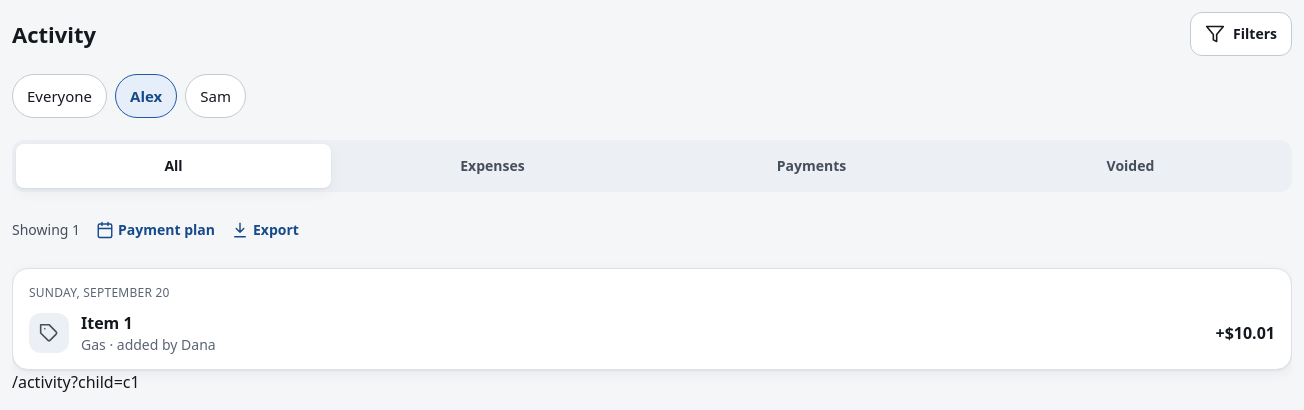
Test: ActivityPage as a Parent › preselects ?child= and keeps the address in step with the chips
The width and height of the screenshot is (1304, 410).
Expected: the text "Item 1" is shown, [81,312,133,334]
Expected: the text "Gas · added by Dana" is shown, [81,335,216,354]
Click the radio button labelled "Sam" at (216, 96), box [185,74,246,118]
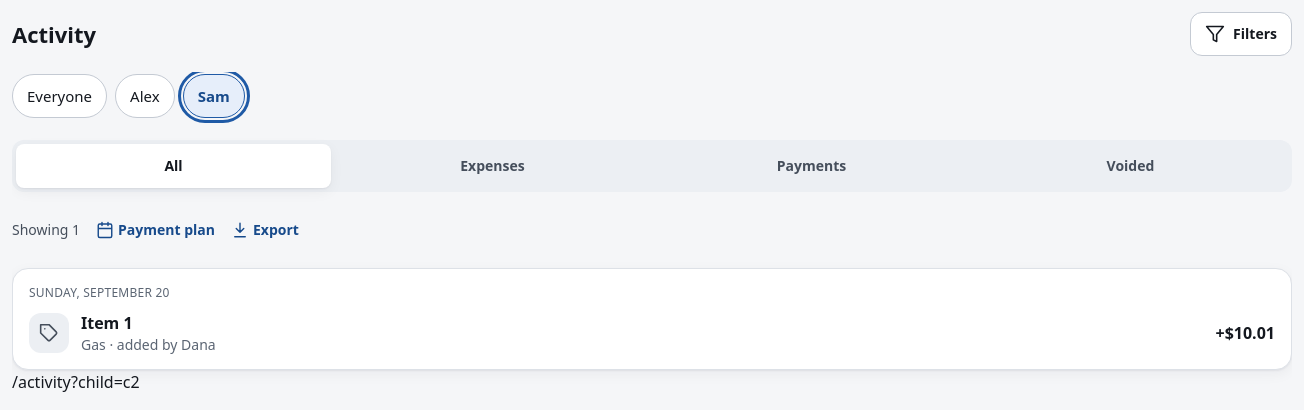
Expected: the text with test id "location" reads "/activity?child=c2", [12,371,140,393]
Click the radio button labelled "Everyone" at (60, 96), box [12,74,107,118]
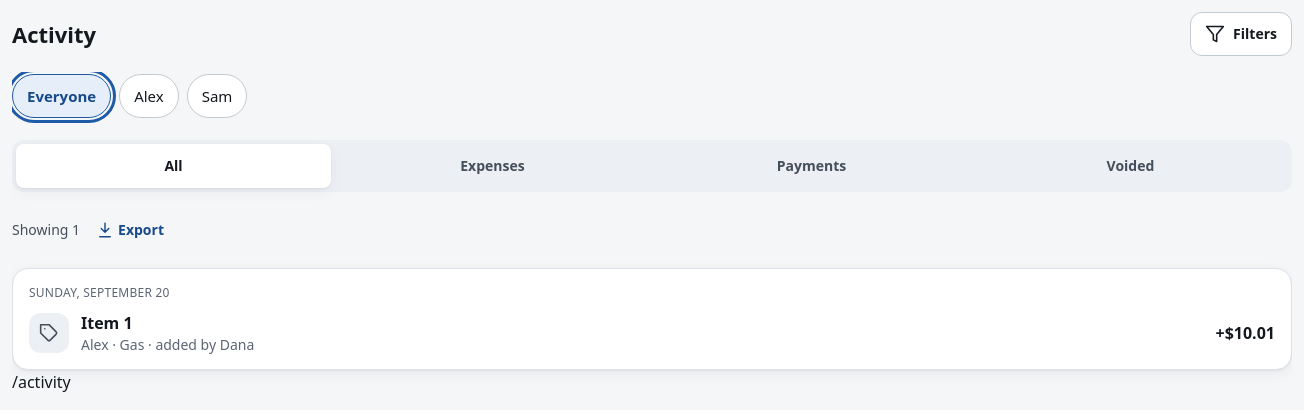
Expected: the text with test id "location" reads "/activity", [12,371,71,393]
Expected: the link "Payment plan" is gone
